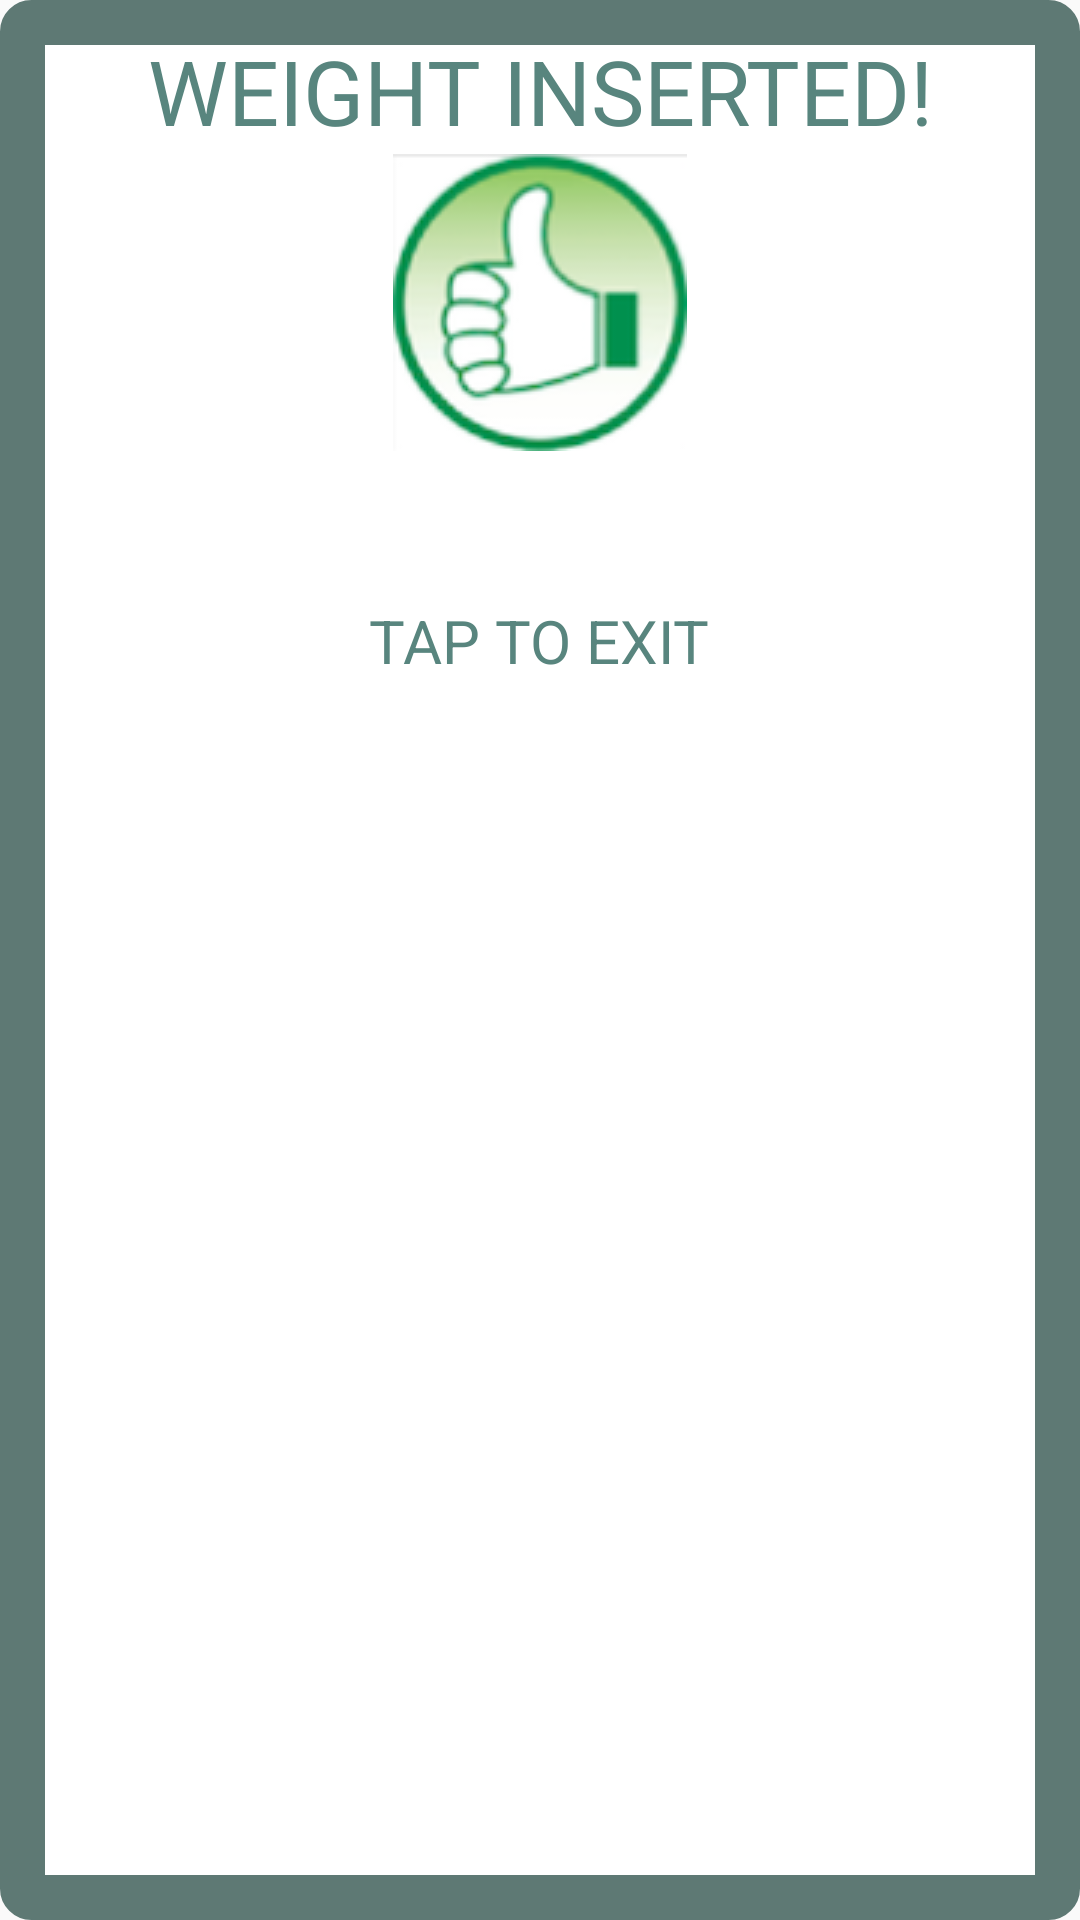

Named icons in this screenshot (1080 x 1920) and their bounding boxes, (x1, y1, x2, y2):
pulgar: (393, 154, 687, 451)
